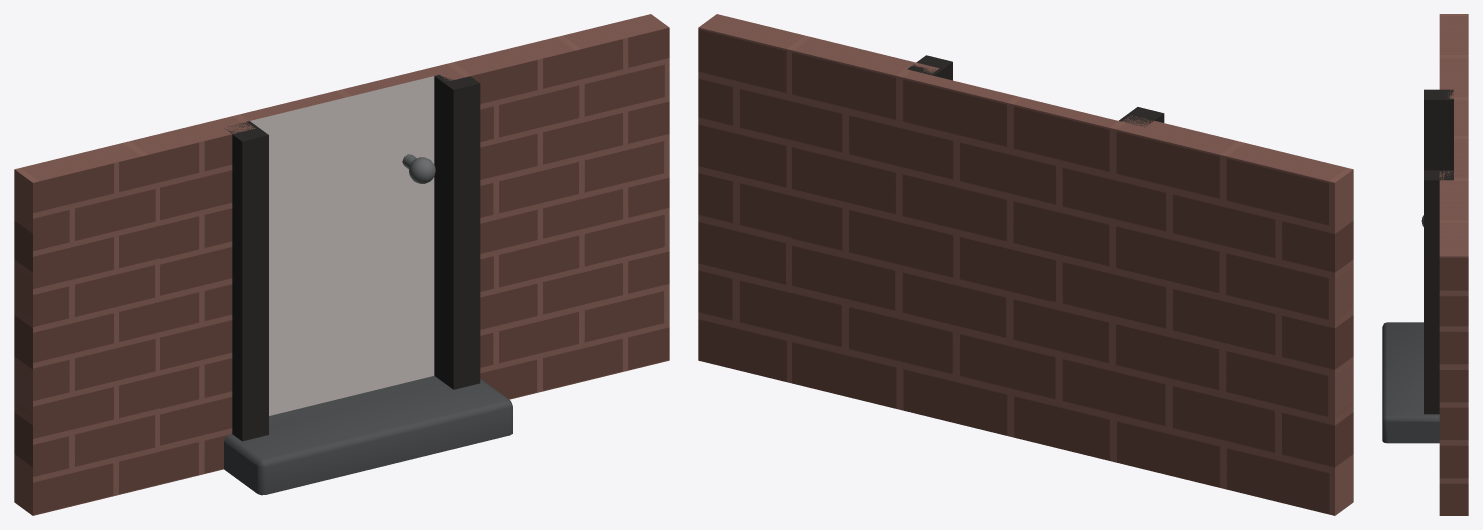
The model's file is wallBack_mid.fbx.
3 renders of one model, left to right at view 1: azimuth 30°, elevation 25°; view 2: azimuth 150°, elevation 25°; view 3: azimuth 270°, elevation 25°, orthographic. The views are drawn at different scales.
Parts seen in each view (by area): view 1: wallBack_mid; view 2: wallBack_mid; view 3: wallBack_mid.
Boxes of the visible parts, bbox=[...] form: wallBack_mid: bbox=[14, 14, 669, 515]; wallBack_mid: bbox=[698, 14, 1353, 515]; wallBack_mid: bbox=[1382, 14, 1468, 515].
Size of the model in its own units: 4000 by 2000 by 601.
